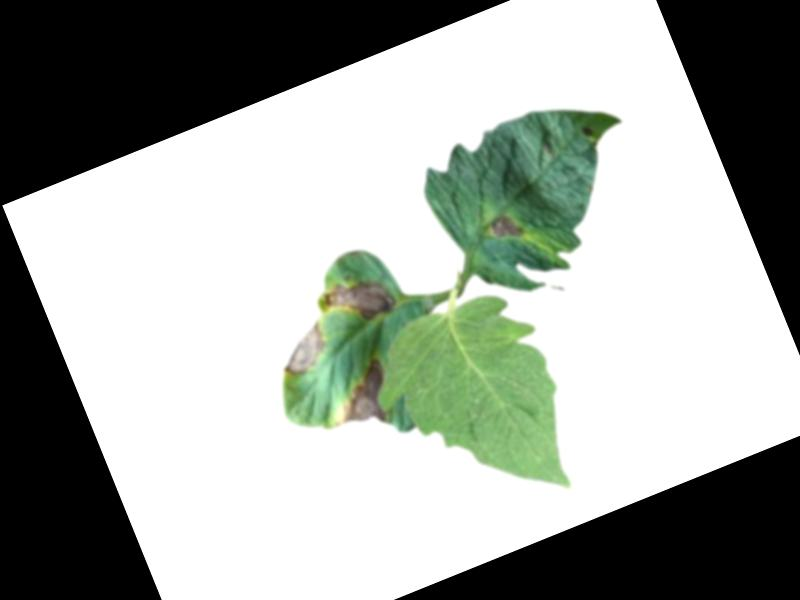Early_blight: (329, 357, 402, 436), (318, 268, 398, 337), (266, 317, 333, 380), (486, 208, 525, 249), (578, 123, 595, 141)
healthy: (350, 266, 598, 546)
